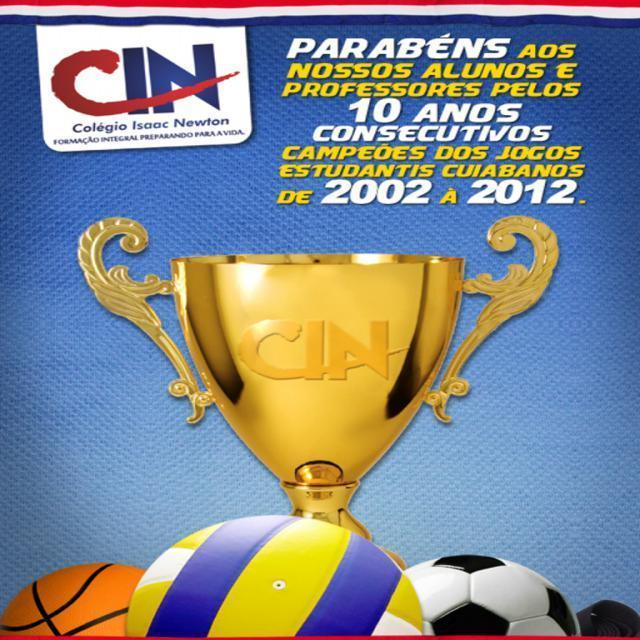ball: (123, 514, 428, 640), (396, 553, 582, 639), (0, 561, 151, 639), (574, 599, 639, 639)
